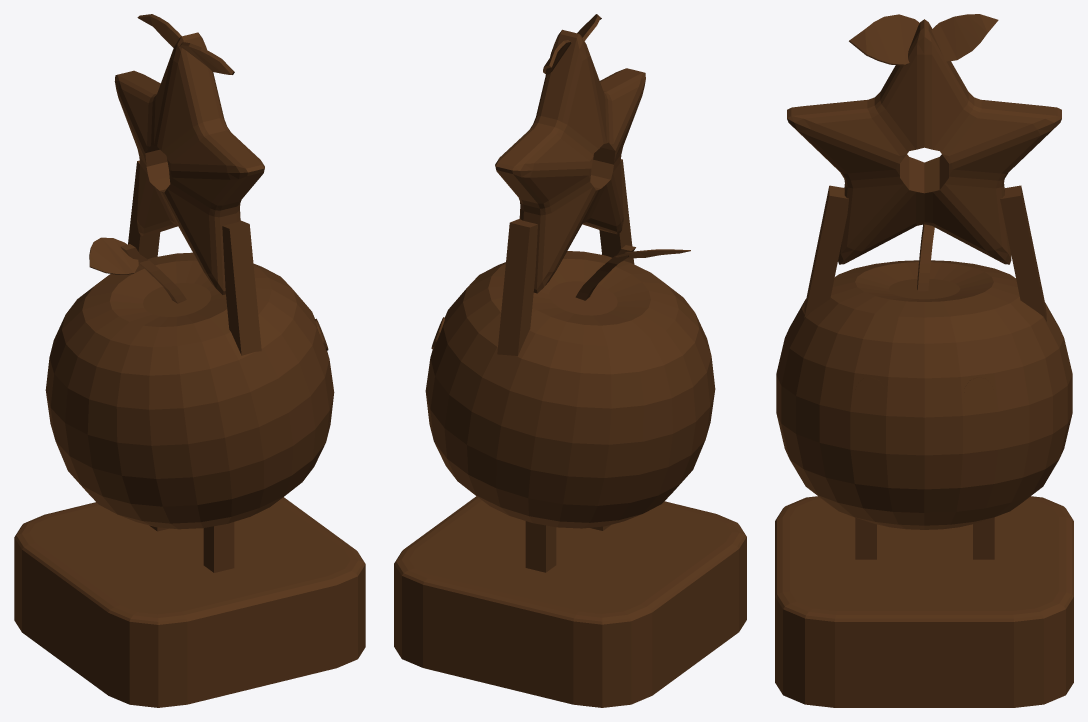
Rendered from junimo.fbx.
The picture shows the model from 3 angles, left to right: view 1: azimuth 30°, elevation 25°; view 2: azimuth 150°, elevation 25°; view 3: azimuth 270°, elevation 25°; orthographic projection. The views are drawn at different scales.
Parts seen in each view (by area): view 1: Body, Cube.005, Star, Cube.002, Cube, Leaf, Cube.003, Cube.004, Leaf.001, Leaf.002; view 2: Body, Cube.005, Star, Cube.003, Cube.001, Cube.002, Cube.004; view 3: Body, Cube.005, Star, Cube.003, Cube.002, Leaf.001, Leaf.002, Cube.001, Cube, Cube.004.
Part boxes in pixels (left/top/right/bottom): Body: left=45, top=252, right=334, bottom=529; Cube.005: left=14, top=497, right=365, bottom=707; Star: left=114, top=32, right=264, bottom=294; Cube.002: left=222, top=220, right=261, bottom=355; Cube: left=203, top=522, right=234, bottom=572; Leaf: left=89, top=237, right=138, bottom=274; Cube.003: left=128, top=160, right=160, bottom=259; Cube.004: left=120, top=244, right=186, bottom=303; Leaf.001: left=179, top=42, right=234, bottom=74; Leaf.002: left=137, top=14, right=181, bottom=47; Body: left=425, top=251, right=715, bottom=528; Cube.005: left=394, top=496, right=746, bottom=707; Star: left=495, top=29, right=645, bottom=293; Cube.003: left=497, top=218, right=537, bottom=356; Cube.001: left=525, top=521, right=556, bottom=572; Cube.002: left=599, top=159, right=634, bottom=264; Cube.004: left=575, top=245, right=635, bottom=300; Body: left=776, top=260, right=1072, bottom=529; Cube.005: left=775, top=496, right=1073, bottom=707; Star: left=787, top=19, right=1061, bottom=264; Cube.003: left=1000, top=185, right=1046, bottom=321; Cube.002: left=804, top=185, right=848, bottom=317; Leaf.001: left=849, top=14, right=919, bottom=65; Leaf.002: left=931, top=14, right=998, bottom=61; Cube.001: left=973, top=517, right=994, bottom=559; Cube: left=855, top=517, right=876, bottom=559; Cube.004: left=917, top=224, right=934, bottom=291.
Bounding box in the file's own units: 2 × 4.62 × 2.
